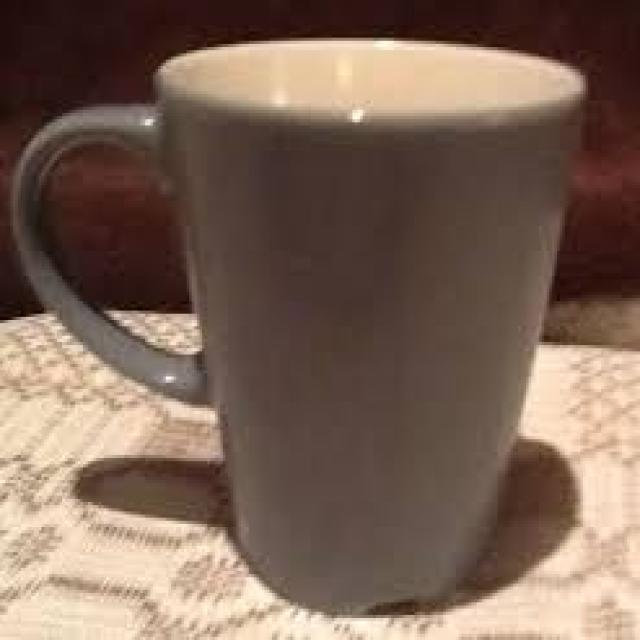taza: (12, 40, 588, 610)
